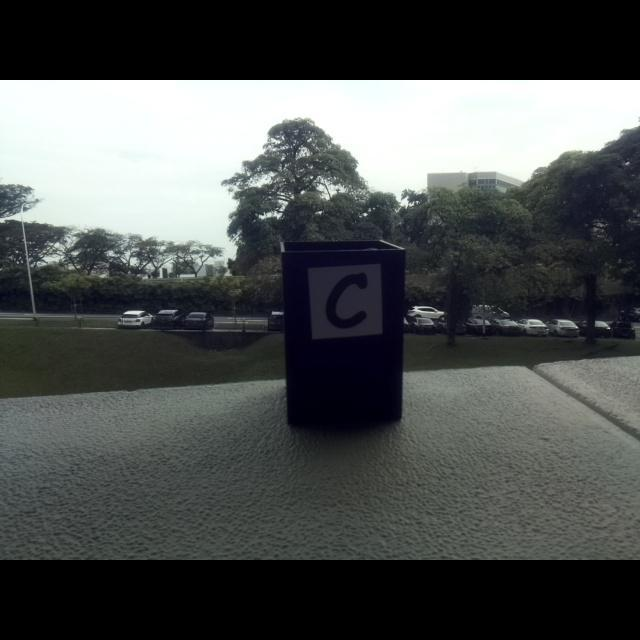C: (325, 272, 368, 330)
